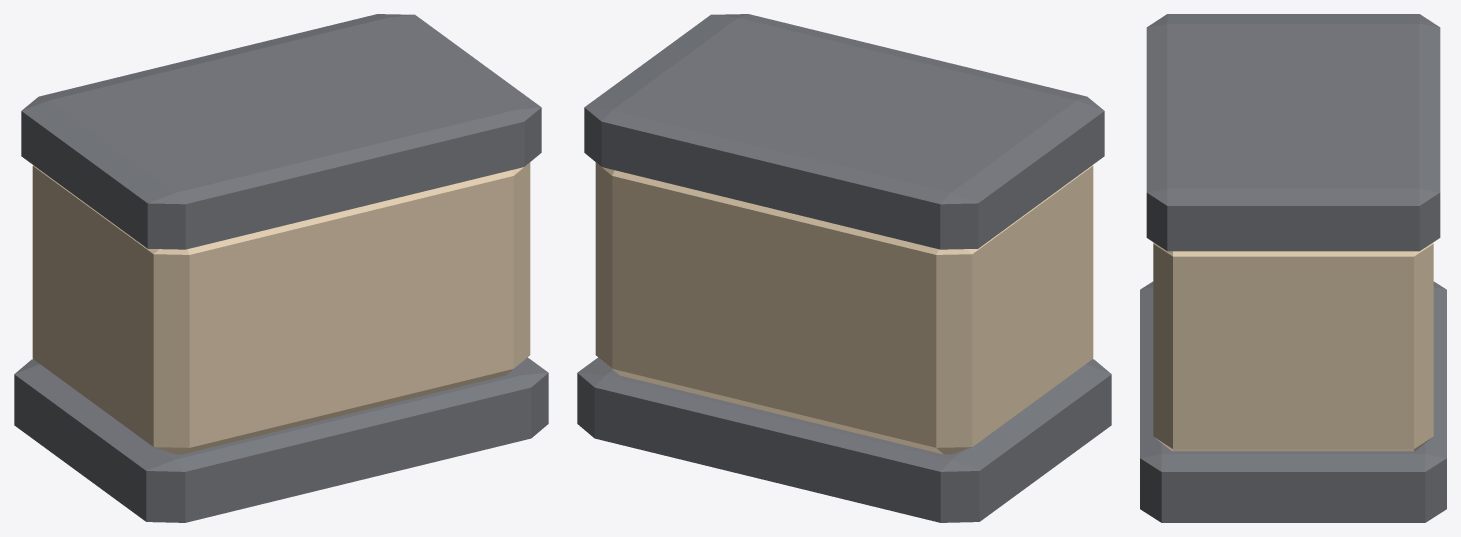
The model's file is b04_cardboard_dumpster_with_slot.glb.
The picture shows the model from 3 angles, left to right: view 1: azimuth 30°, elevation 25°; view 2: azimuth 150°, elevation 25°; view 3: azimuth 270°, elevation 25°; orthographic projection.
Visible parts, largest first — view 1: b04_cardboard_dumpster_with_slot; view 2: b04_cardboard_dumpster_with_slot; view 3: b04_cardboard_dumpster_with_slot.
Part boxes in pixels (box(x1,y1,x2,y2)): b04_cardboard_dumpster_with_slot: box(14, 14, 548, 522); b04_cardboard_dumpster_with_slot: box(577, 14, 1111, 522); b04_cardboard_dumpster_with_slot: box(1140, 14, 1446, 522).
Bounding box in the file's own units: 2.38 × 1.83 × 1.57.
